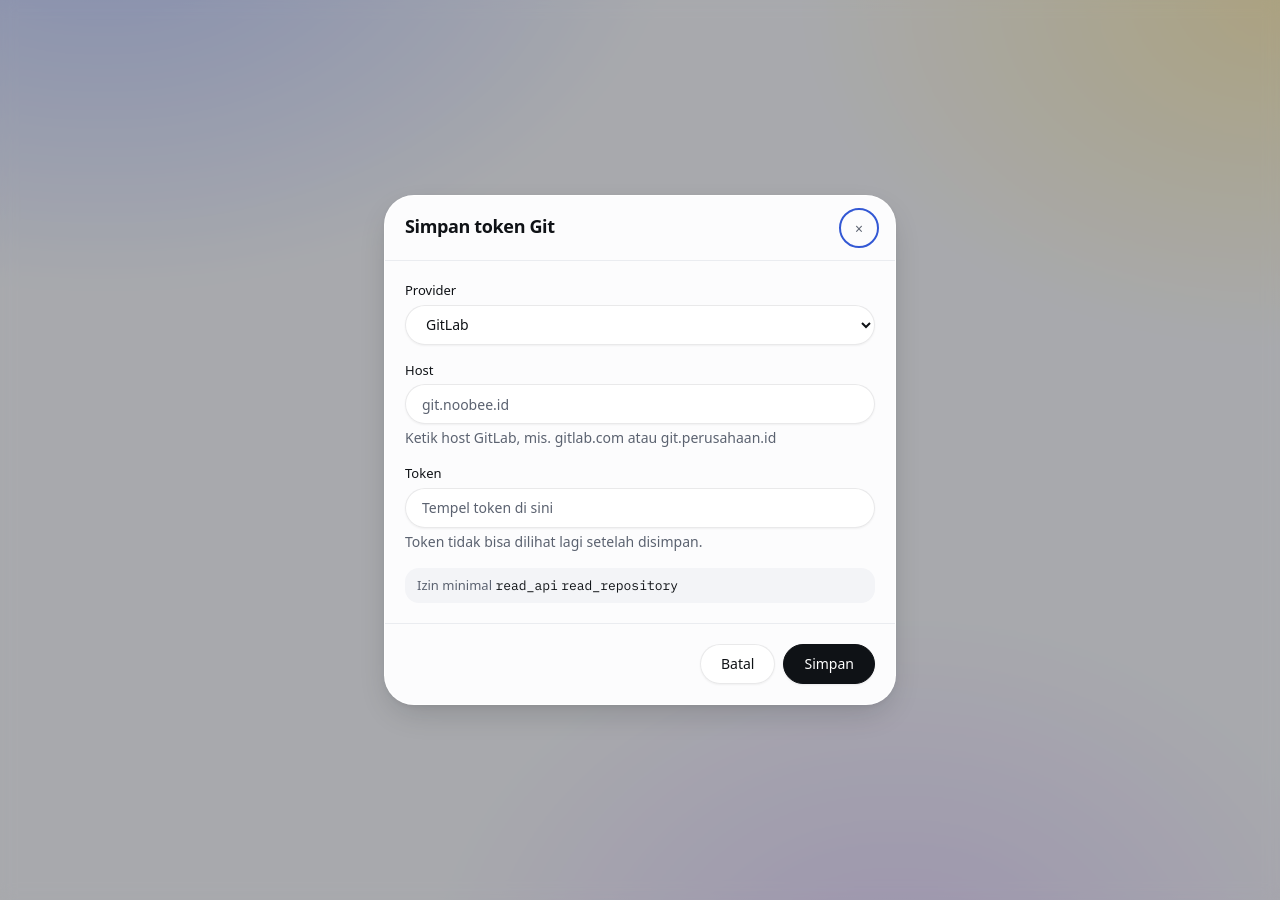
SaveTokenDialog › HOST_NOT_ALLOWED -> host field error
Type "evil.example.com" into the field labelled "Host". click: (640, 404)
box: [405,384,875,424]
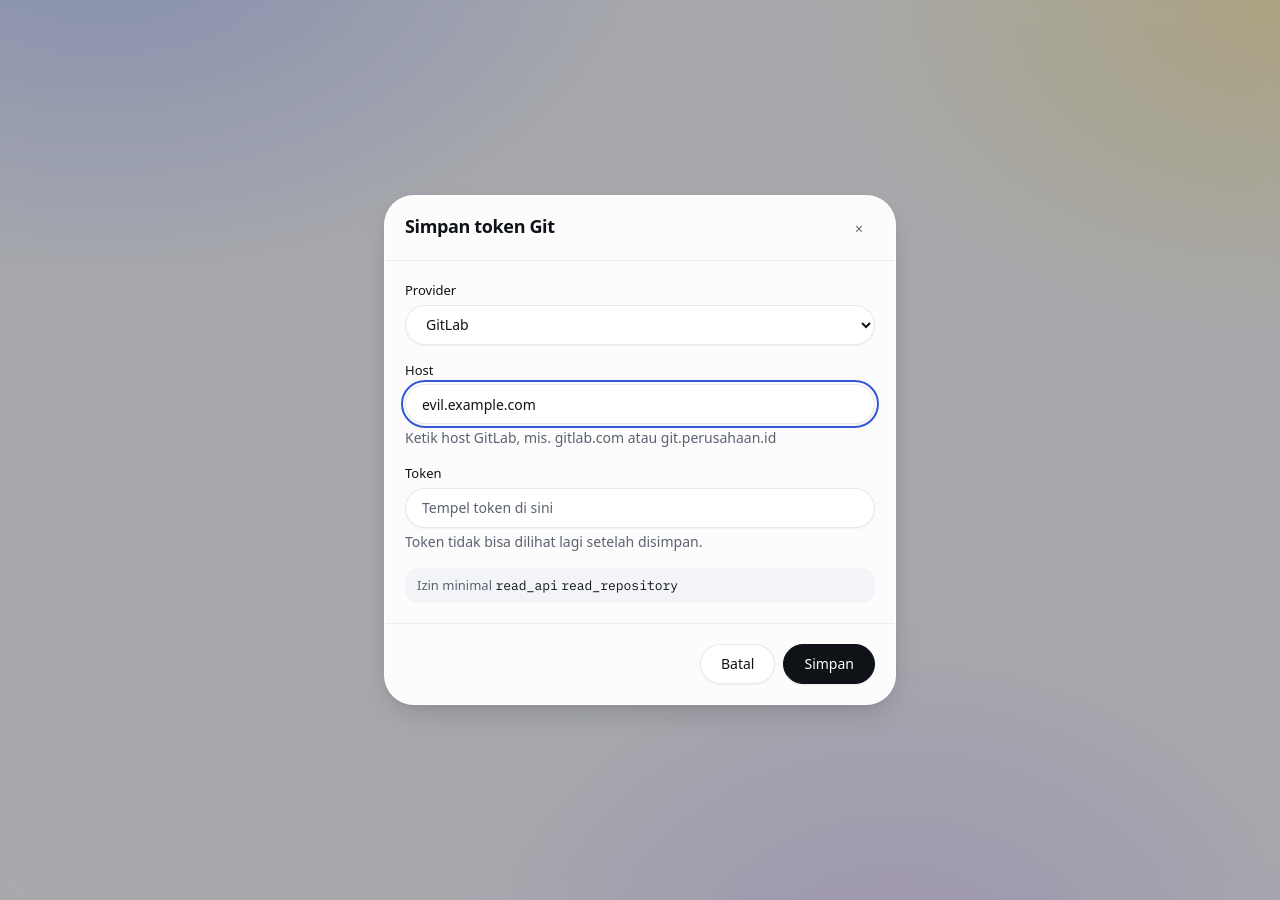
Type "ghp_e2eValidToken7Qx2" into the password field labelled "Token". click: (640, 508)
box: [405,488,875,528]
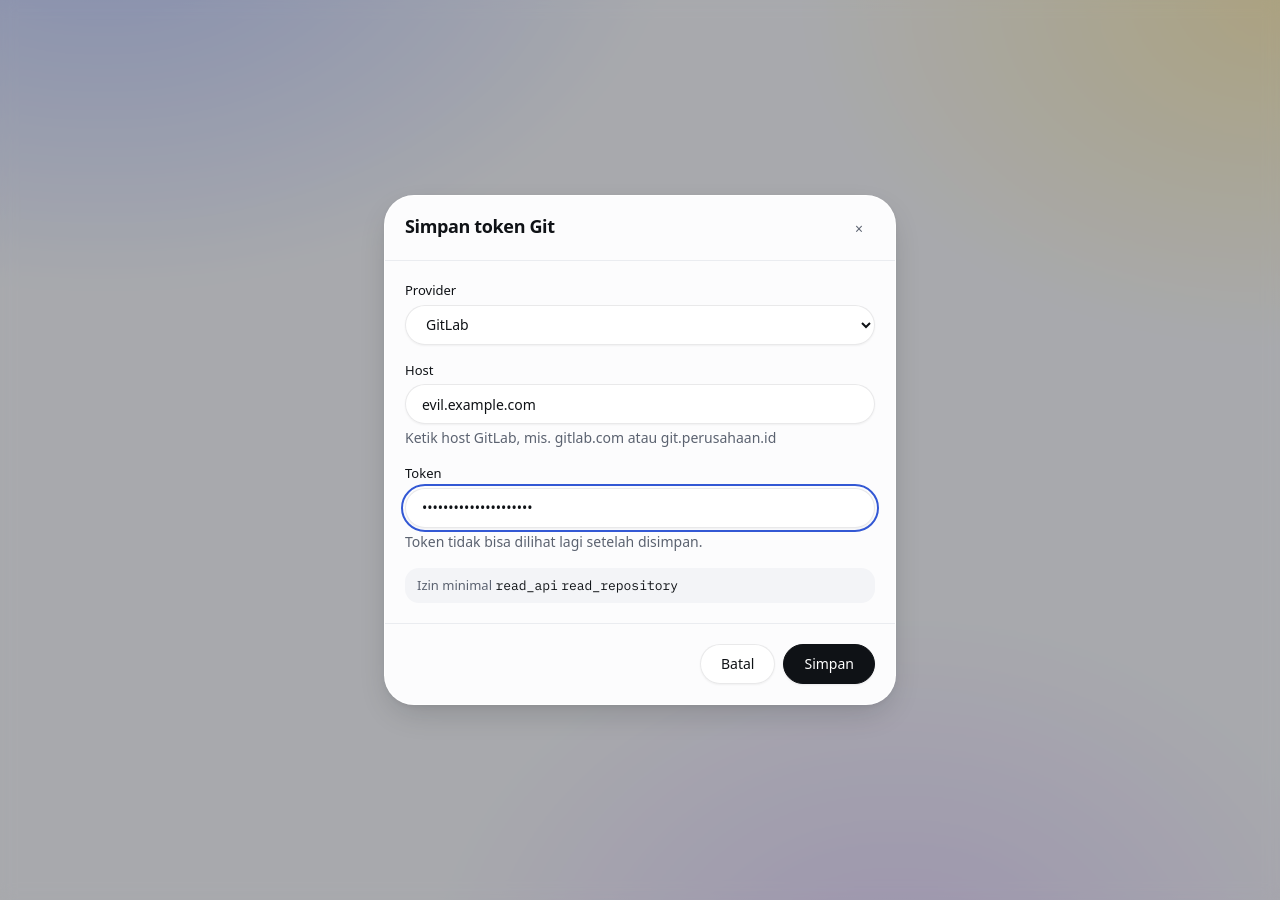
Click the button "Simpan". click: (829, 664)
box: [784,644,875,684]
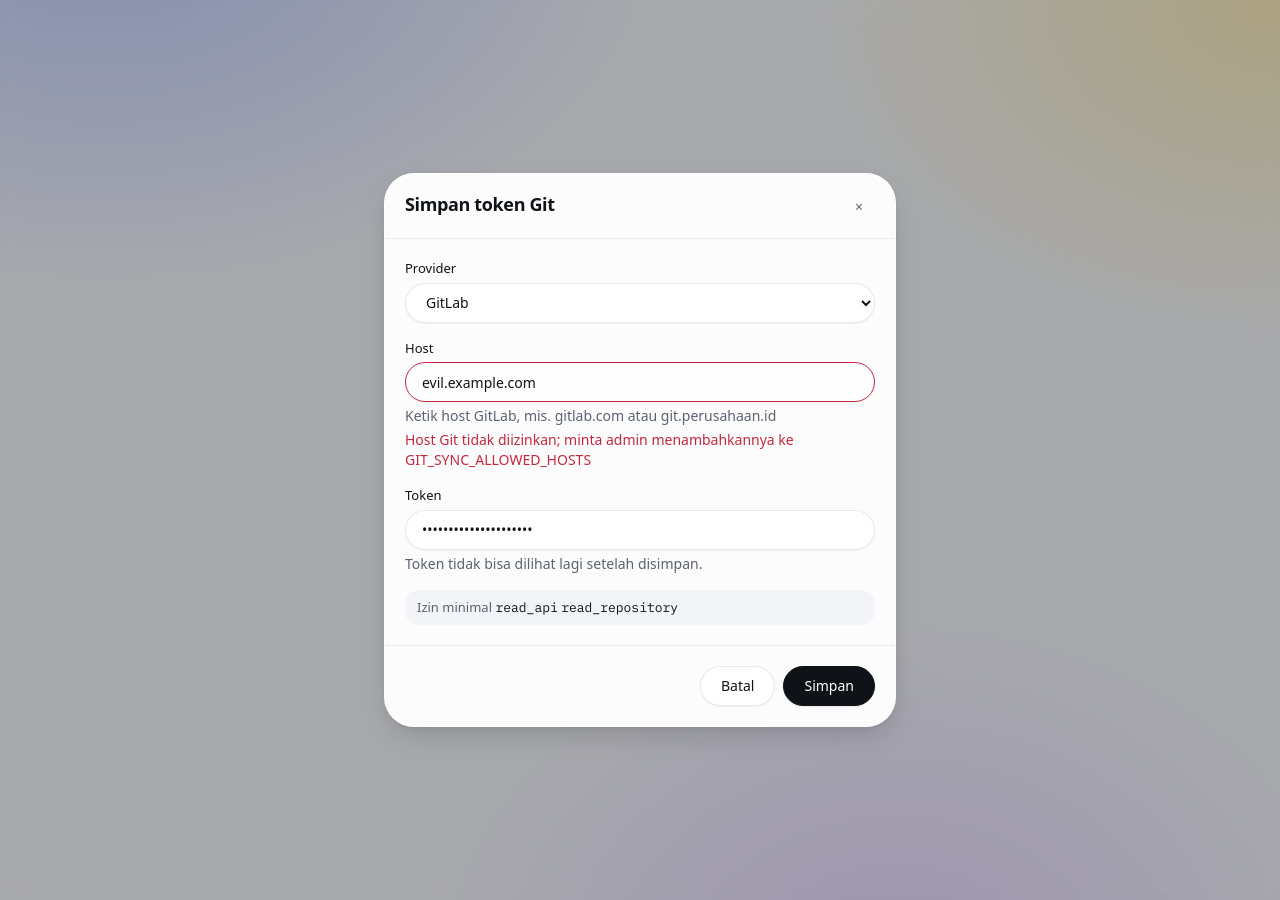
Check: the text "Host Git tidak diizinkan" is shown, box [405,430,794,469]
